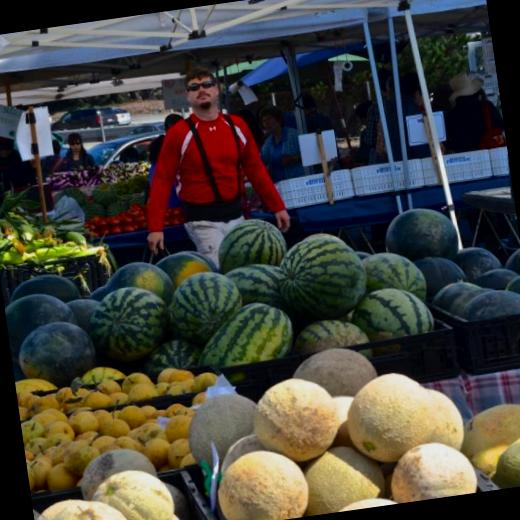Cherry: (0, 181, 520, 396), (52, 180, 146, 221)
